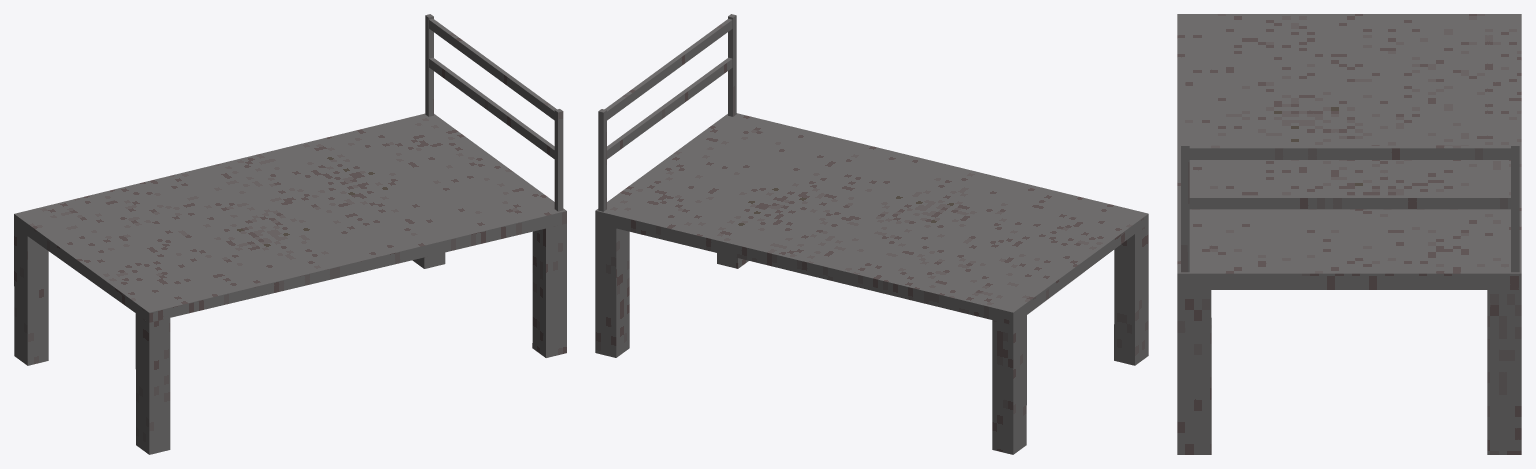
File: prison_bed.glb
3 views of the same model, side by side, from view 1: azimuth 30°, elevation 25°; view 2: azimuth 150°, elevation 25°; view 3: azimuth 270°, elevation 25° (orthographic). The views are drawn at different scales.
Parts seen in each view (by area): view 1: Cube.004; view 2: Cube.004; view 3: Cube.004.
Part boxes in pixels (x1,y1,x2,y2): Cube.004: [14, 14, 566, 454]; Cube.004: [595, 14, 1148, 454]; Cube.004: [1177, 14, 1521, 454].
Bounding box in the file's own units: 1.26 × 0.6961 × 0.7068.
1 material, 1 textured.
